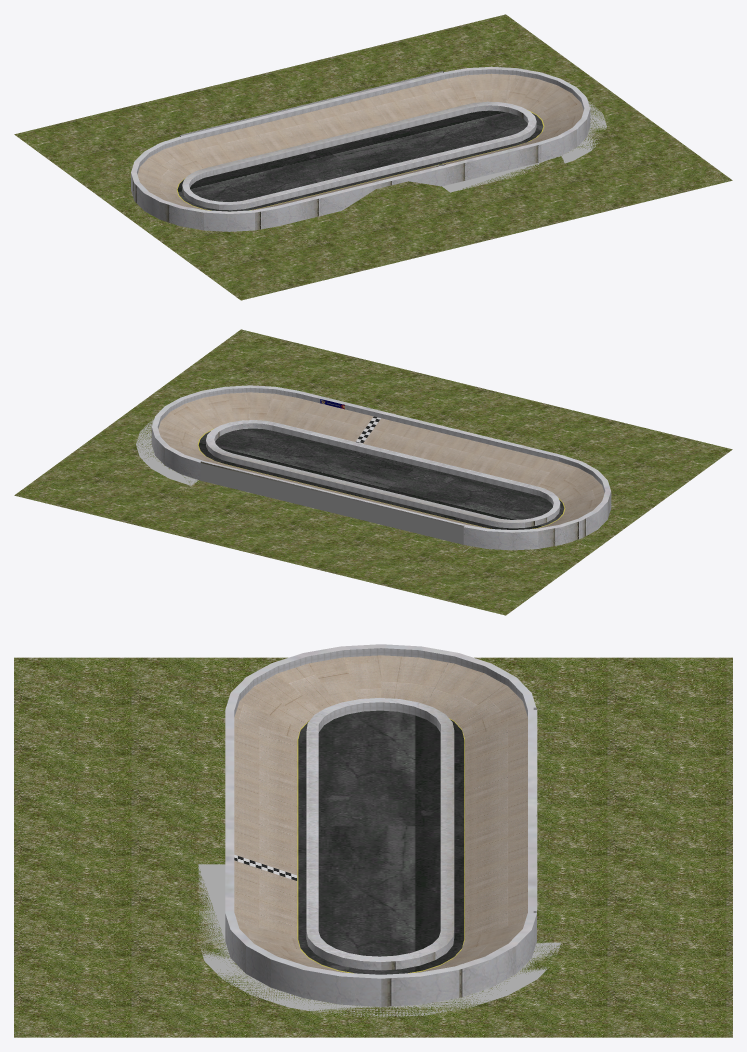
3 views of the same model, one above another, from view 1: azimuth 30°, elevation 25°; view 2: azimuth 150°, elevation 25°; view 3: azimuth 270°, elevation 25° (orthographic). The views are drawn at different scales.
Parts seen in each view (by area): view 1: the_loop_final-SKP--Material, the_loop_final-SKP--Wall, the_loop_final-SKP--Material8, the_loop_final-SKP--RUbber, the_loop_final-SKP--Default_Material, the_loop_final-SKP--Material9; view 2: the_loop_final-SKP--Material, the_loop_final-SKP--Material8, the_loop_final-SKP--Wall, the_loop_final-SKP--RUbber, the_loop_final-SKP--Default_Material, the_loop_final-SKP--Material9; view 3: the_loop_final-SKP--Material, the_loop_final-SKP--Material8, the_loop_final-SKP--RUbber, the_loop_final-SKP--Wall, the_loop_final-SKP--Default_Material, the_loop_final-SKP--Material9, the_loop_final-SKP--Material1.
Boxes of the visible parts, left/top/right/bottom form: the_loop_final-SKP--Material: left=14, top=14, right=732, bottom=300; the_loop_final-SKP--Wall: left=131, top=66, right=590, bottom=231; the_loop_final-SKP--Material8: left=137, top=73, right=583, bottom=210; the_loop_final-SKP--RUbber: left=177, top=110, right=543, bottom=211; the_loop_final-SKP--Default_Material: left=180, top=71, right=606, bottom=192; the_loop_final-SKP--Material9: left=137, top=69, right=584, bottom=187; the_loop_final-SKP--Material: left=14, top=329, right=732, bottom=615; the_loop_final-SKP--Material8: left=158, top=392, right=604, bottom=528; the_loop_final-SKP--Wall: left=151, top=385, right=611, bottom=550; the_loop_final-SKP--RUbber: left=198, top=428, right=564, bottom=529; the_loop_final-SKP--Default_Material: left=136, top=419, right=468, bottom=552; the_loop_final-SKP--Material9: left=157, top=387, right=605, bottom=505; the_loop_final-SKP--Material: left=14, top=657, right=732, bottom=1037; the_loop_final-SKP--Material8: left=234, top=655, right=527, bottom=972; the_loop_final-SKP--RUbber: left=298, top=710, right=464, bottom=974; the_loop_final-SKP--Wall: left=225, top=644, right=537, bottom=1006; the_loop_final-SKP--Default_Material: left=198, top=707, right=561, bottom=1017; the_loop_final-SKP--Material9: left=234, top=648, right=527, bottom=732; the_loop_final-SKP--Material1: left=297, top=718, right=464, bottom=973.
Size of the model in its own units: 40821 by 1518 by 32633.
Materials: 9 (8 with a texture image).
